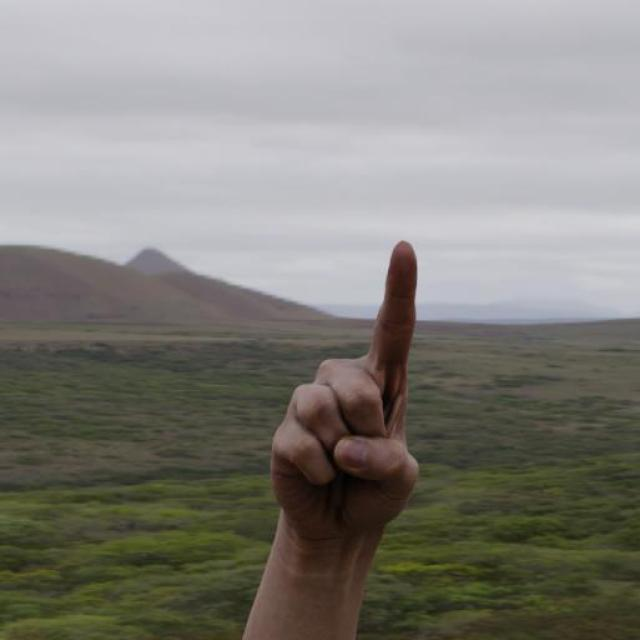Z: (260, 232, 439, 574)
